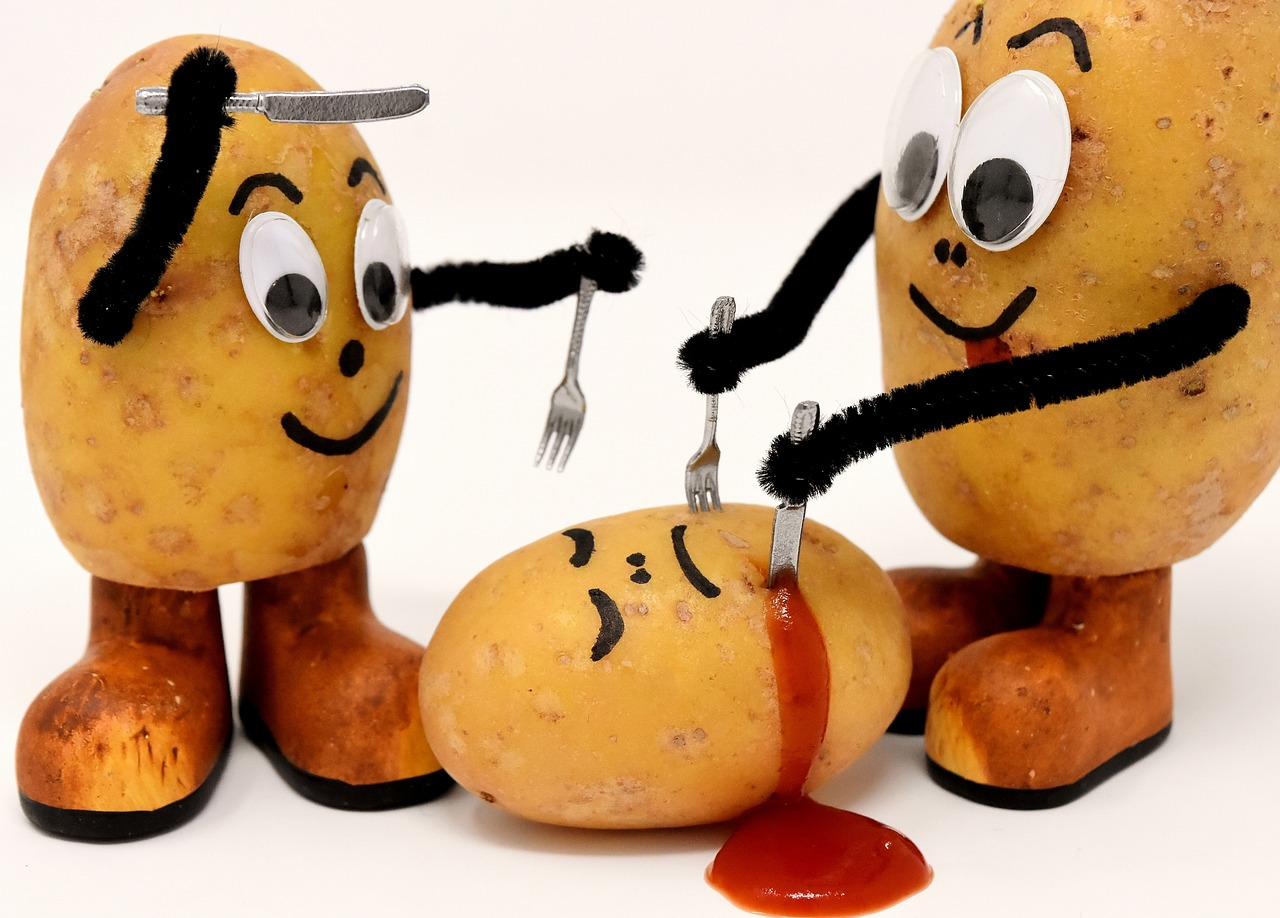knife: (132, 77, 443, 124), (762, 394, 822, 610)
